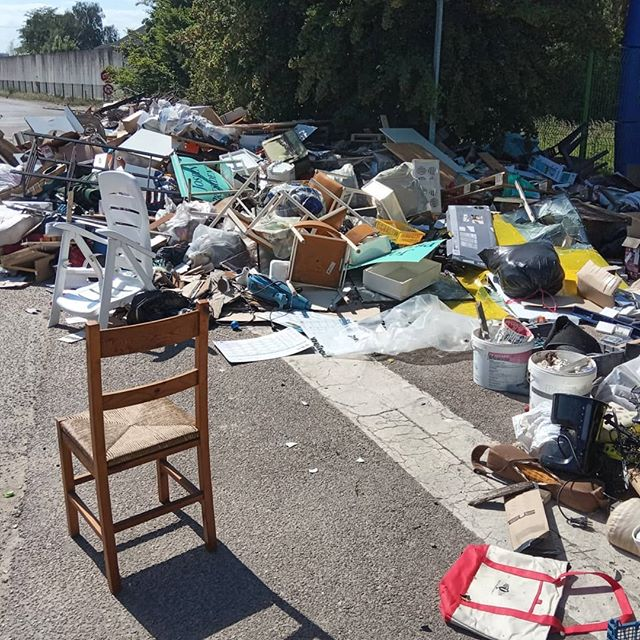chair: (26, 327, 230, 576)
trash: (29, 119, 640, 378), (467, 310, 640, 640)
tree: (144, 1, 602, 119)
